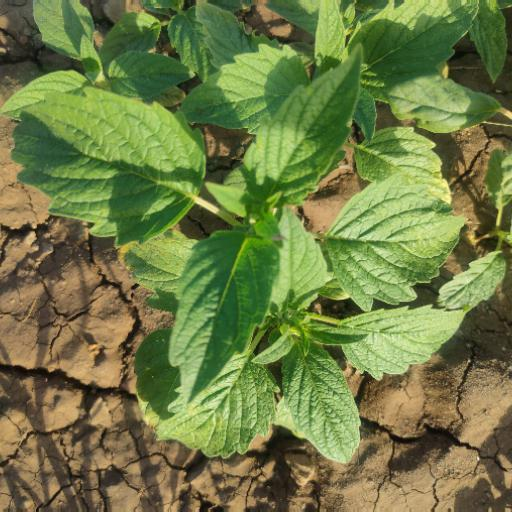crop: (37, 5, 512, 423)
